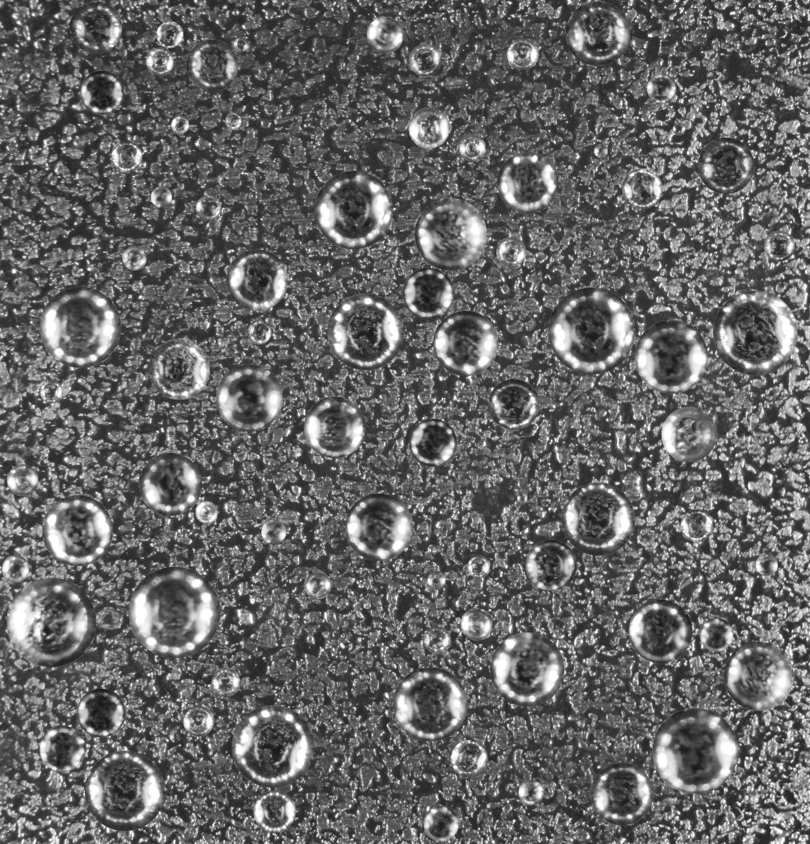Bubble: (128, 566, 220, 658), (6, 577, 95, 667), (548, 287, 635, 374), (652, 708, 738, 793), (713, 290, 797, 375), (231, 705, 314, 787), (40, 286, 120, 367), (84, 751, 164, 831), (314, 171, 392, 249), (327, 293, 403, 370), (393, 667, 467, 741), (490, 632, 564, 706), (634, 320, 707, 393), (561, 482, 634, 555), (414, 198, 486, 270), (42, 495, 112, 566), (724, 641, 793, 710), (345, 493, 412, 560), (216, 364, 282, 431), (433, 310, 498, 375), (565, 1, 630, 65), (628, 599, 692, 663), (590, 763, 653, 825), (138, 453, 201, 515), (148, 338, 209, 399), (226, 249, 287, 310), (497, 152, 558, 213), (304, 396, 365, 457), (698, 137, 754, 193), (661, 407, 716, 462), (69, 1, 121, 53), (186, 39, 238, 91), (402, 267, 454, 319), (525, 539, 576, 590), (488, 379, 539, 429), (76, 688, 125, 737), (409, 418, 456, 466), (39, 725, 85, 771), (80, 70, 123, 114), (253, 790, 295, 832), (408, 107, 449, 148), (622, 168, 662, 208), (450, 740, 488, 777), (366, 16, 403, 53), (423, 805, 458, 841), (699, 618, 733, 651), (680, 509, 712, 541), (409, 44, 441, 76), (460, 608, 492, 640), (6, 464, 38, 496), (111, 141, 142, 172), (507, 38, 538, 69), (764, 230, 794, 261), (183, 706, 213, 736), (496, 237, 526, 266), (647, 73, 676, 103), (211, 667, 240, 696), (1, 555, 29, 582), (146, 47, 173, 75), (304, 572, 331, 599), (423, 626, 450, 653), (459, 134, 485, 161), (156, 21, 183, 47), (196, 195, 221, 220), (518, 780, 543, 805), (261, 519, 286, 544), (247, 320, 271, 344), (122, 246, 146, 270), (467, 555, 490, 578), (40, 380, 63, 403), (195, 501, 217, 523), (755, 553, 777, 575), (150, 186, 171, 207), (427, 571, 445, 589), (171, 115, 189, 133), (225, 113, 241, 129), (233, 37, 248, 52), (672, 122, 685, 135), (594, 144, 607, 157), (517, 492, 527, 503)
